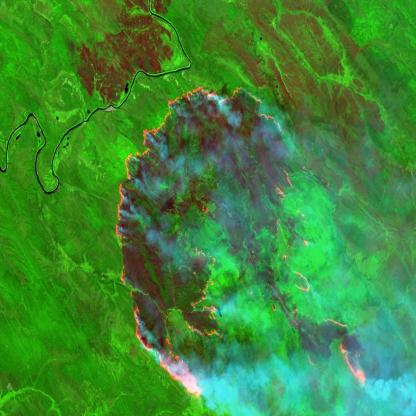fire: (102, 80, 370, 405)
